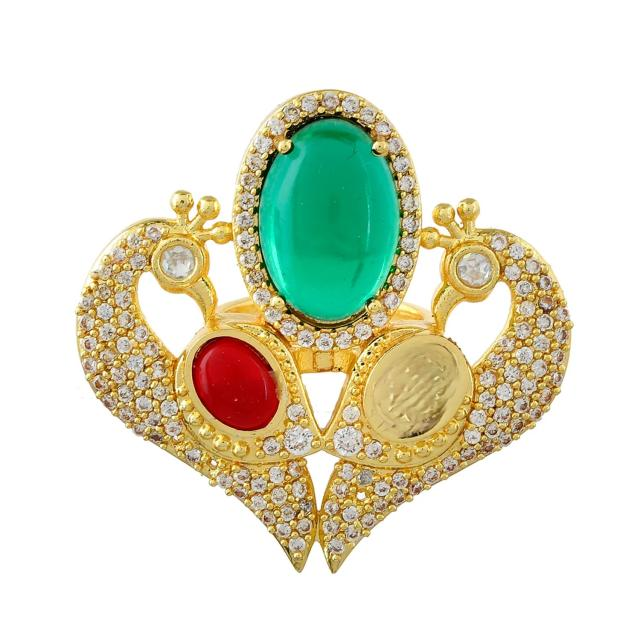missing gem: (368, 343, 459, 439)
